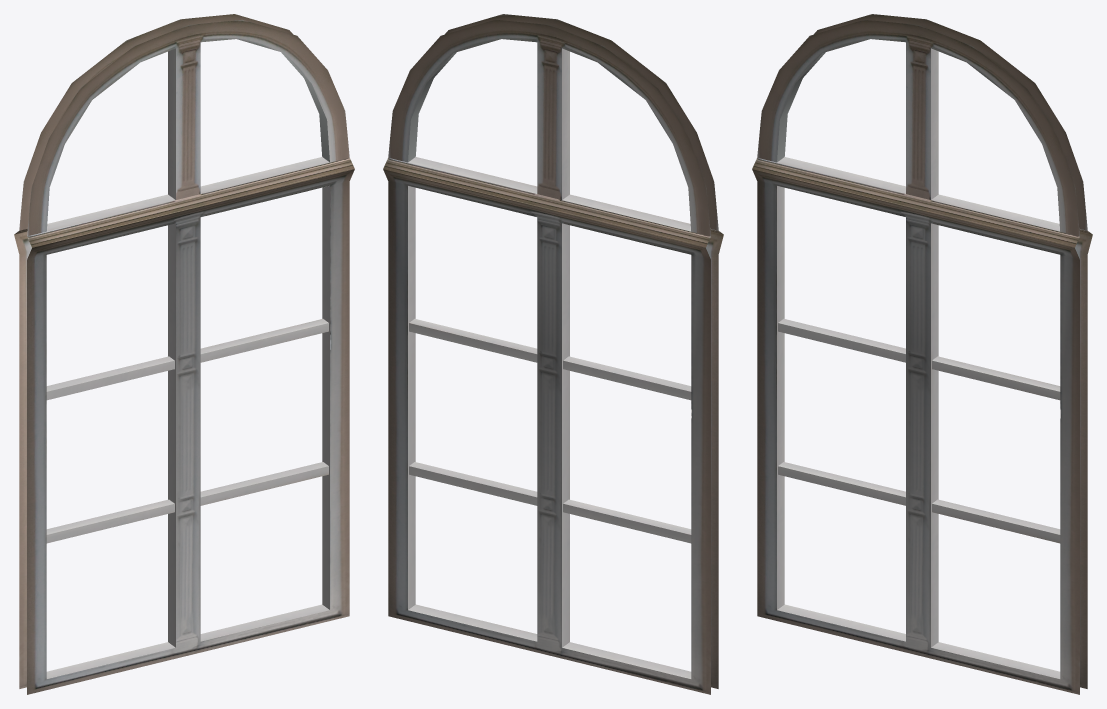
The model's file is WindowRounded1A.fbx.
3 views of the same model, side by side, from view 1: azimuth 30°, elevation 25°; view 2: azimuth 150°, elevation 25°; view 3: azimuth 330°, elevation 25° (orthographic).
Parts seen in each view (by area): view 1: WindowRounded1A; view 2: WindowRounded1A; view 3: WindowRounded1A.
Part boxes in pixels (left/top/right/bottom): WindowRounded1A: left=14, top=14, right=354, bottom=694; WindowRounded1A: left=383, top=14, right=723, bottom=694; WindowRounded1A: left=752, top=14, right=1092, bottom=694.
Size of the model in its own units: 140 by 261 by 13.57.
